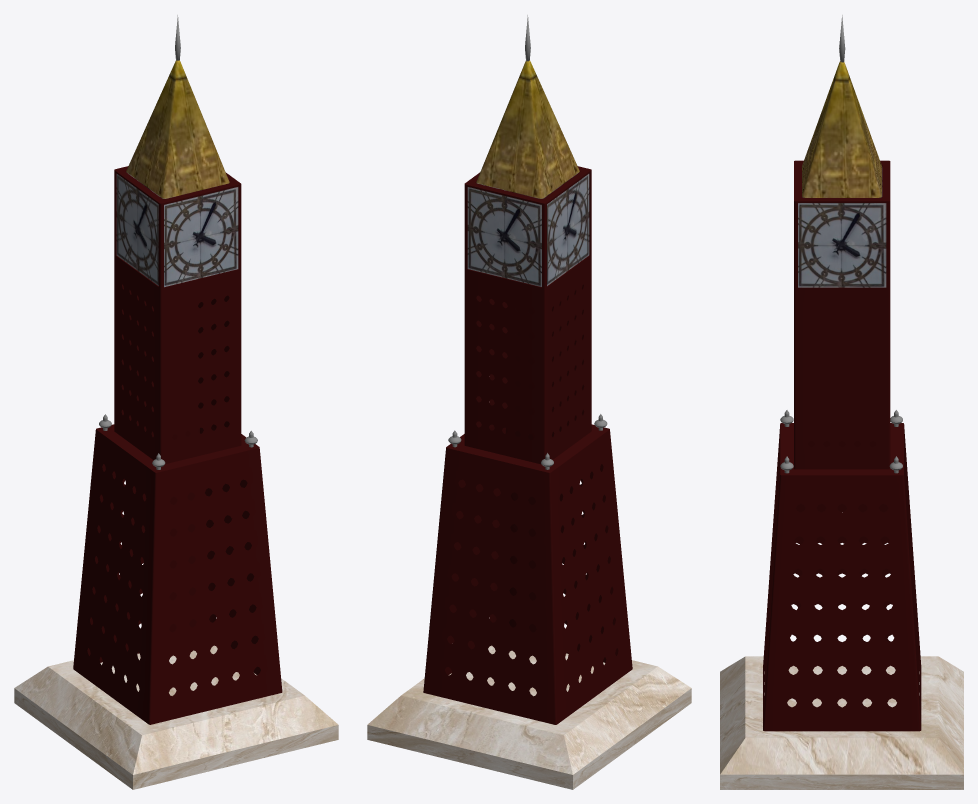
Rendered from tunis_tower_clock__av._habib_bourghiba.glb.
3 views of the same model, side by side, from view 1: azimuth 30°, elevation 25°; view 2: azimuth 150°, elevation 25°; view 3: azimuth 270°, elevation 25° (orthographic). The views are drawn at different scales.
Parts seen in each view (by area): view 1: Box001, Box003, Object006_Material #26_0, Object001_Material #25_0, Object002_Material #25_0; view 2: Box001, Box003, Object006_Material #26_0, Object003_Material #25_0, Object002_Material #25_0; view 3: Box001, Box003, Object004_Material #25_0, Object006_Material #26_0.
Part boxes in pixels (<box>): Box001: <box>73,166,282,724</box>; Box003: <box>14,645,338,789</box>; Object006_Material #26_0: <box>126,60,229,198</box>; Object001_Material #25_0: <box>164,187,238,287</box>; Object002_Material #25_0: <box>116,174,158,285</box>; Box001: <box>423,166,632,724</box>; Box003: <box>367,645,691,789</box>; Object006_Material #26_0: <box>476,60,579,198</box>; Object003_Material #25_0: <box>467,187,541,286</box>; Object002_Material #25_0: <box>547,174,589,285</box>; Box001: <box>763,160,921,731</box>; Box003: <box>720,656,963,789</box>; Object004_Material #25_0: <box>798,203,886,287</box>; Object006_Material #26_0: <box>802,61,881,197</box>.
Bounding box in the file's own units: 1.24 × 4.06 × 1.24.
Materials: 5 (3 with a texture image).
